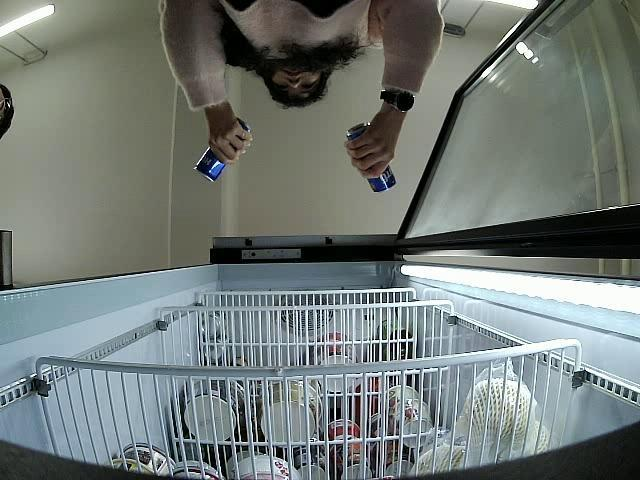16_hot6: (192, 117, 254, 184), (346, 120, 398, 194)
